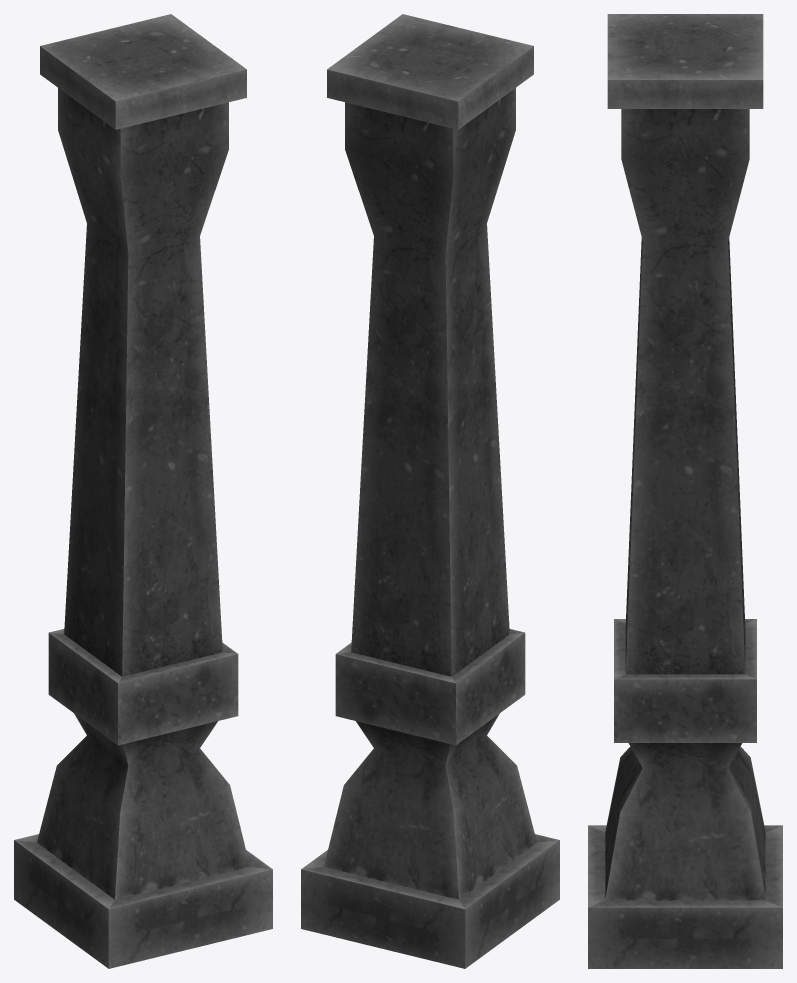
The model's file is PillarTX.fbx.
3 renders of one model, left to right at view 1: azimuth 30°, elevation 25°; view 2: azimuth 150°, elevation 25°; view 3: azimuth 270°, elevation 25°, orthographic. The views are drawn at different scales.
Parts seen in each view (by area): view 1: pCube24; view 2: pCube24; view 3: pCube24.
Boxes of the visible parts, x1,y1,x2,y2 form: pCube24: (14,14,272,968); pCube24: (301,14,559,968); pCube24: (588,14,782,968).
Size of the model in its own units: 1 by 4.99 by 1.
